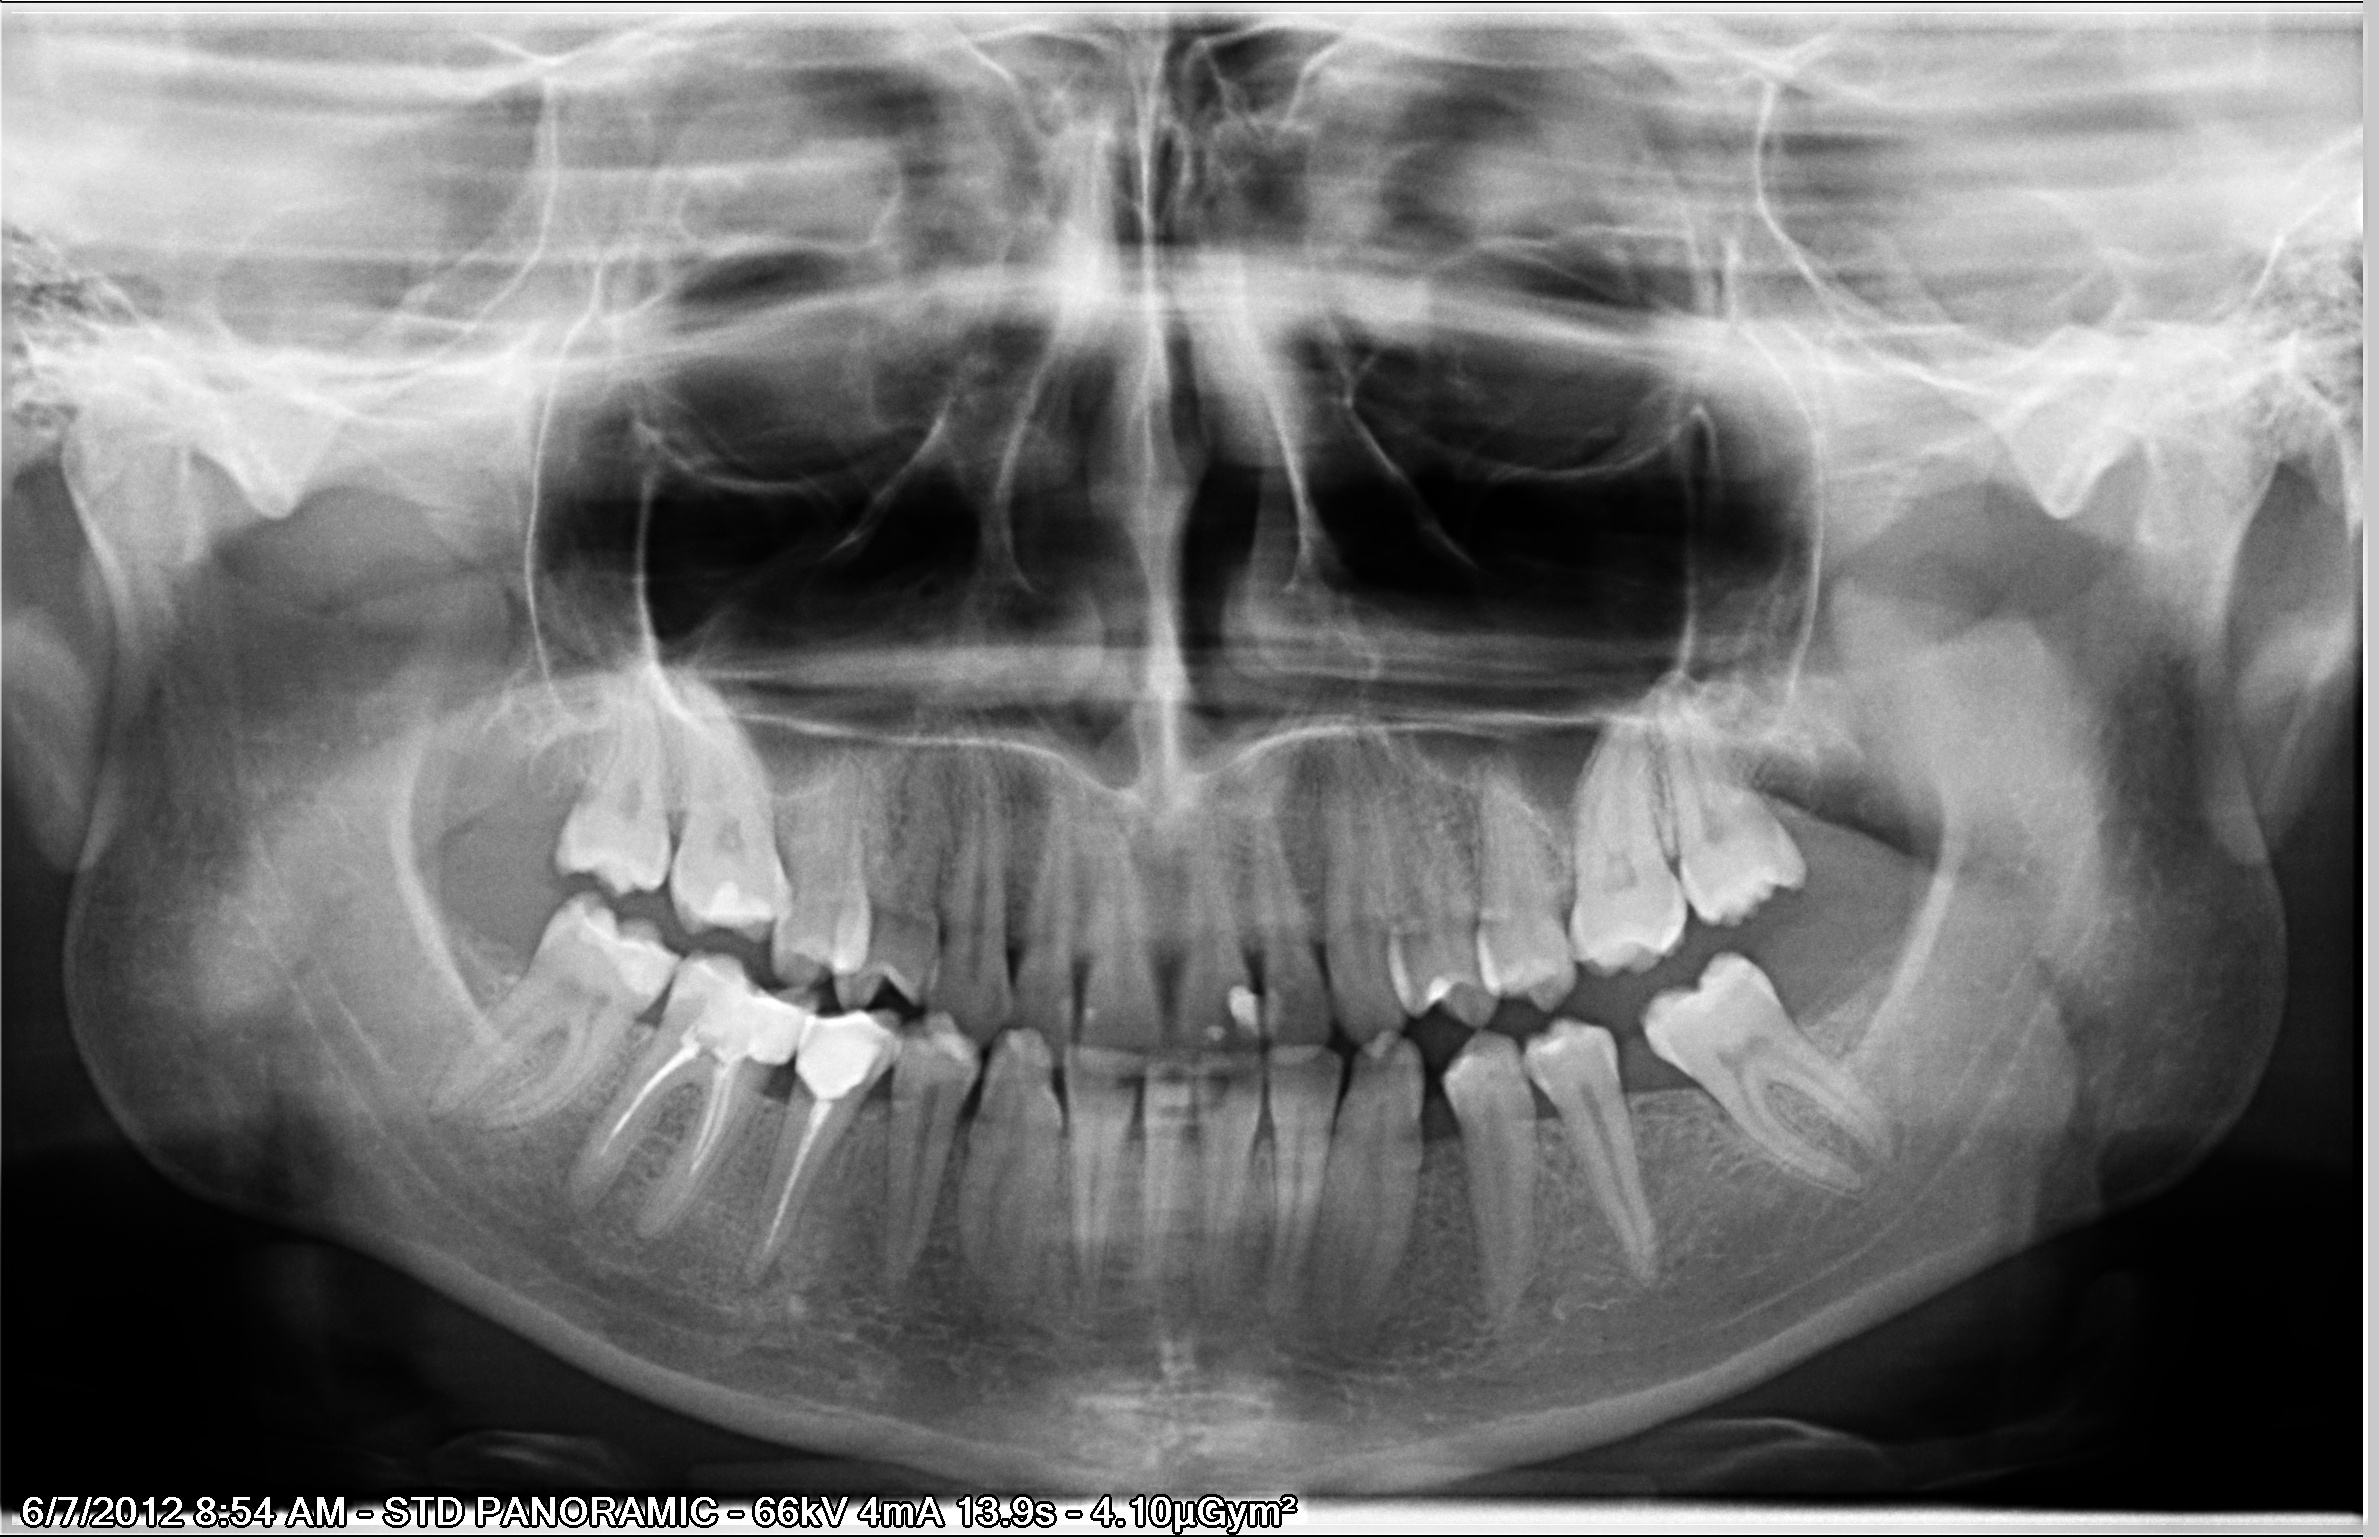END: (581, 1036, 737, 1218), (744, 1089, 836, 1311)
PRR: (681, 942, 820, 1062), (787, 1008, 898, 1107), (579, 899, 668, 997), (699, 866, 789, 944), (1212, 978, 1266, 1046), (1079, 987, 1103, 1039), (1053, 989, 1084, 1027)
